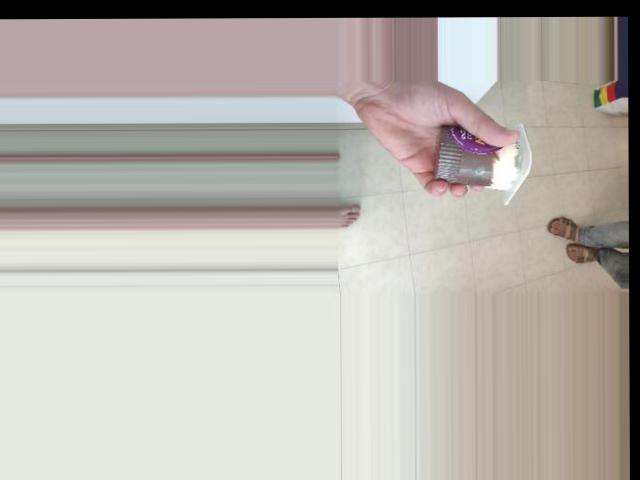milky: (424, 121, 538, 195)
